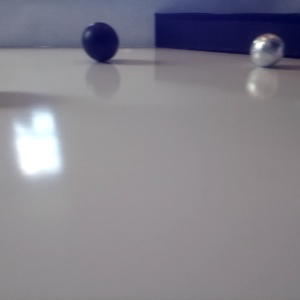zone: (155, 12, 300, 59)
